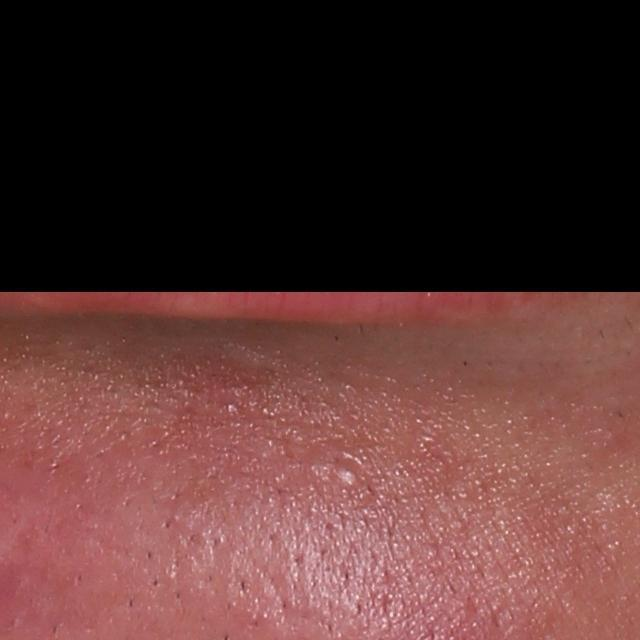pustule: (328, 458, 364, 490)
